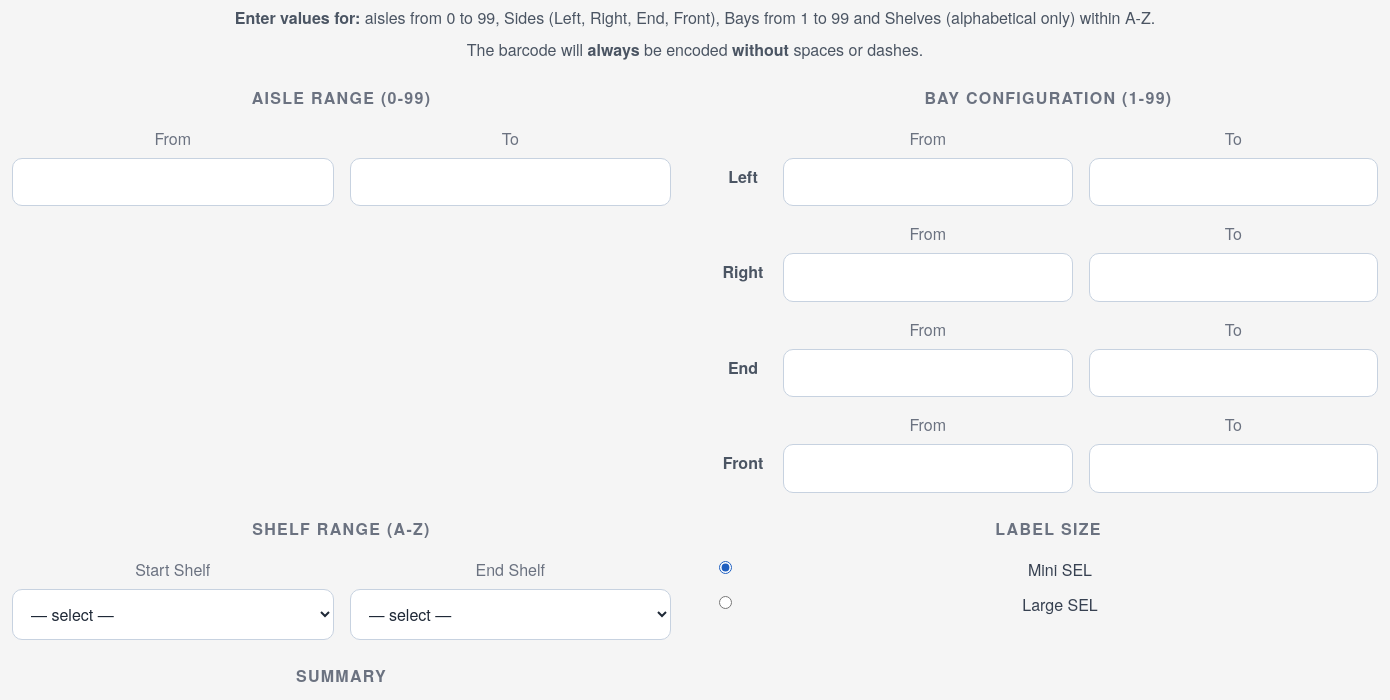
Test: AisleLabelForm › shows error when no side range is provided
This screenshot has width=1390, height=700.
Type "1" into the field labelled "From" below "Aisle Range (0-99)" at (173, 182), box [12,158,334,206]
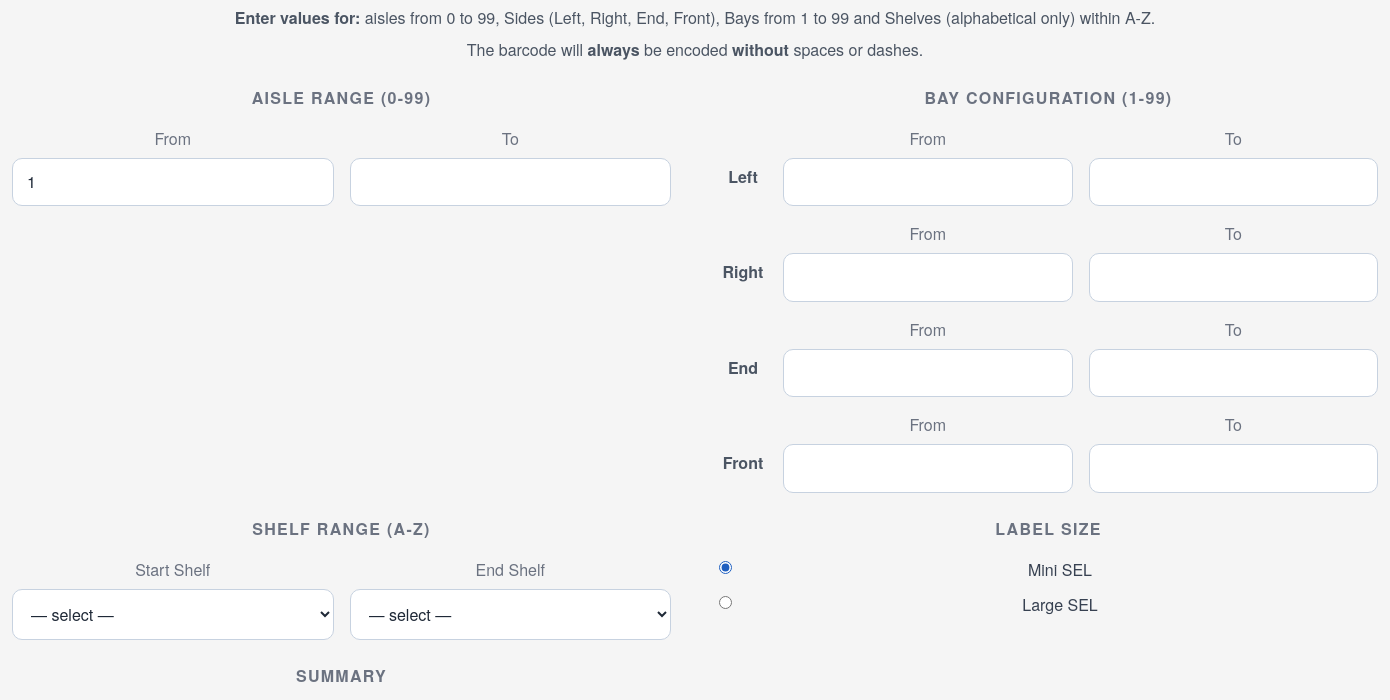
Type "2" into the field labelled "To" below "Aisle Range (0-99)" at (510, 182), box [350,158,671,206]
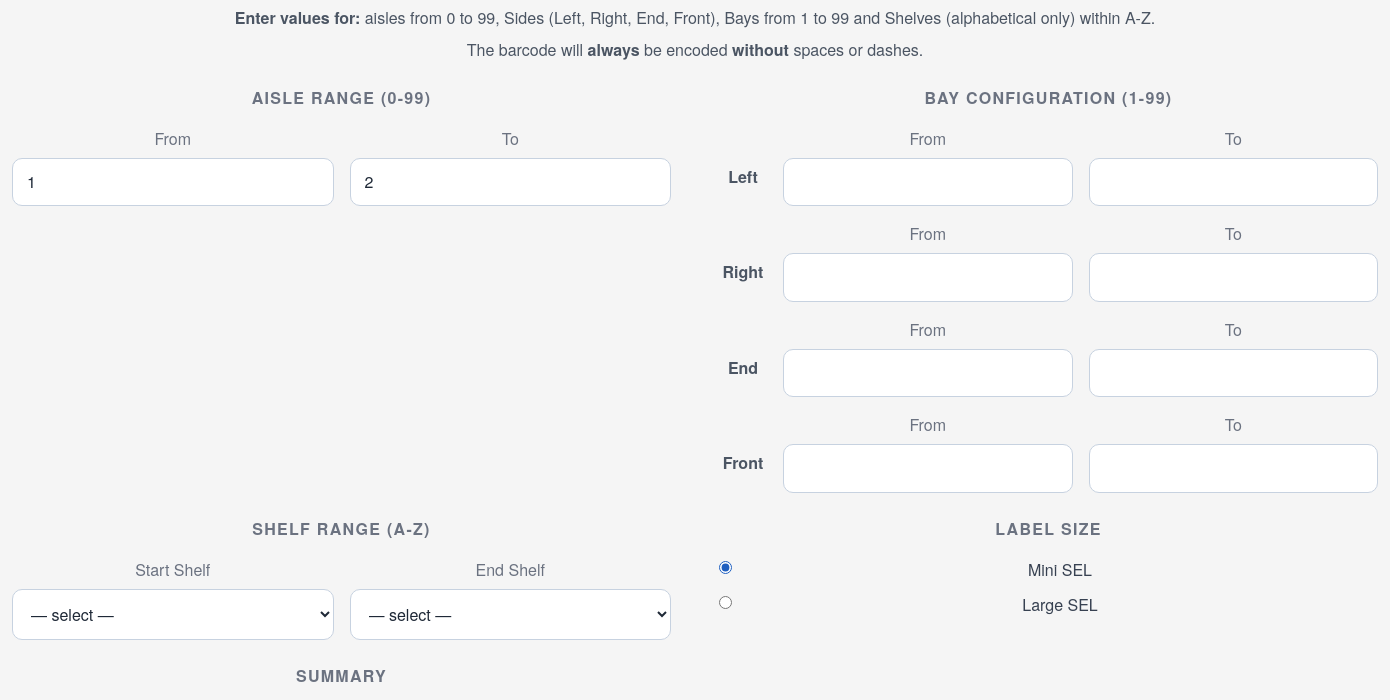
Select "E" in the dropdown labelled "End Shelf" at (510, 614), box [350,589,671,640]
(page scrolled)
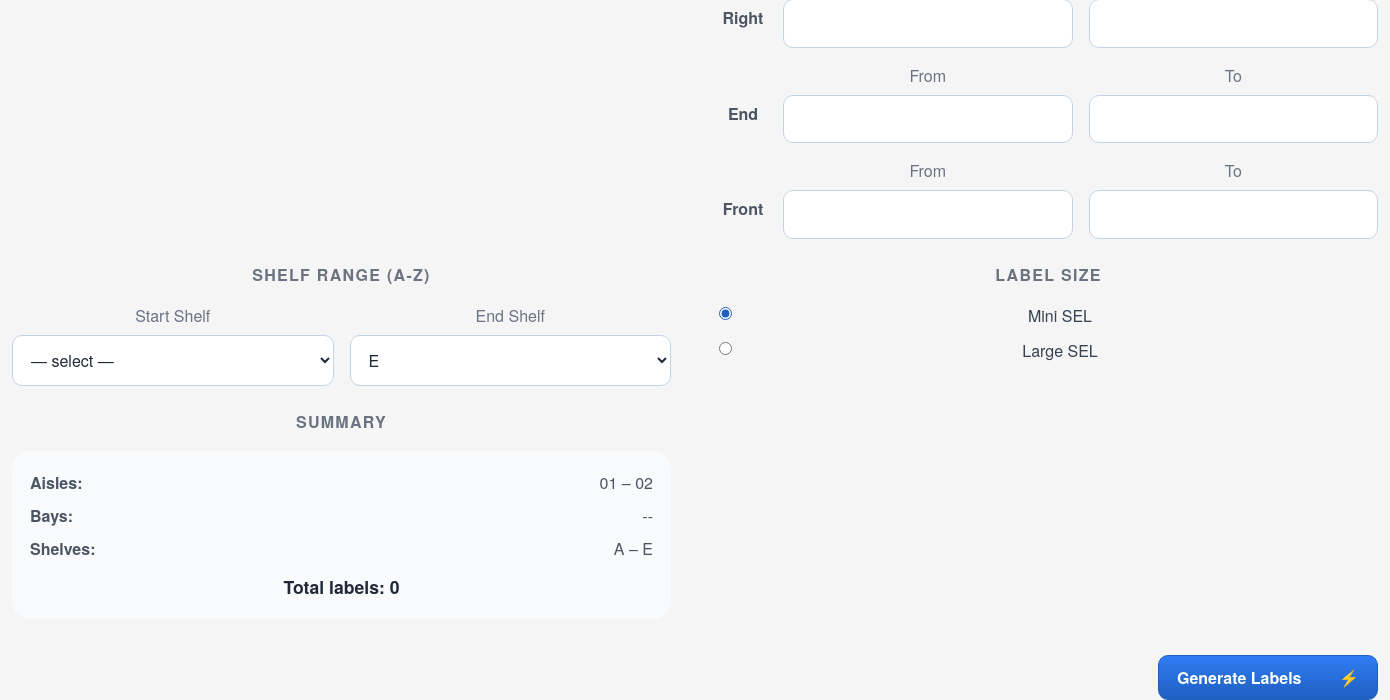
Click the button "Generate Labels ⚡" at (1268, 678), box [1158,655,1378,699]
(page scrolled)
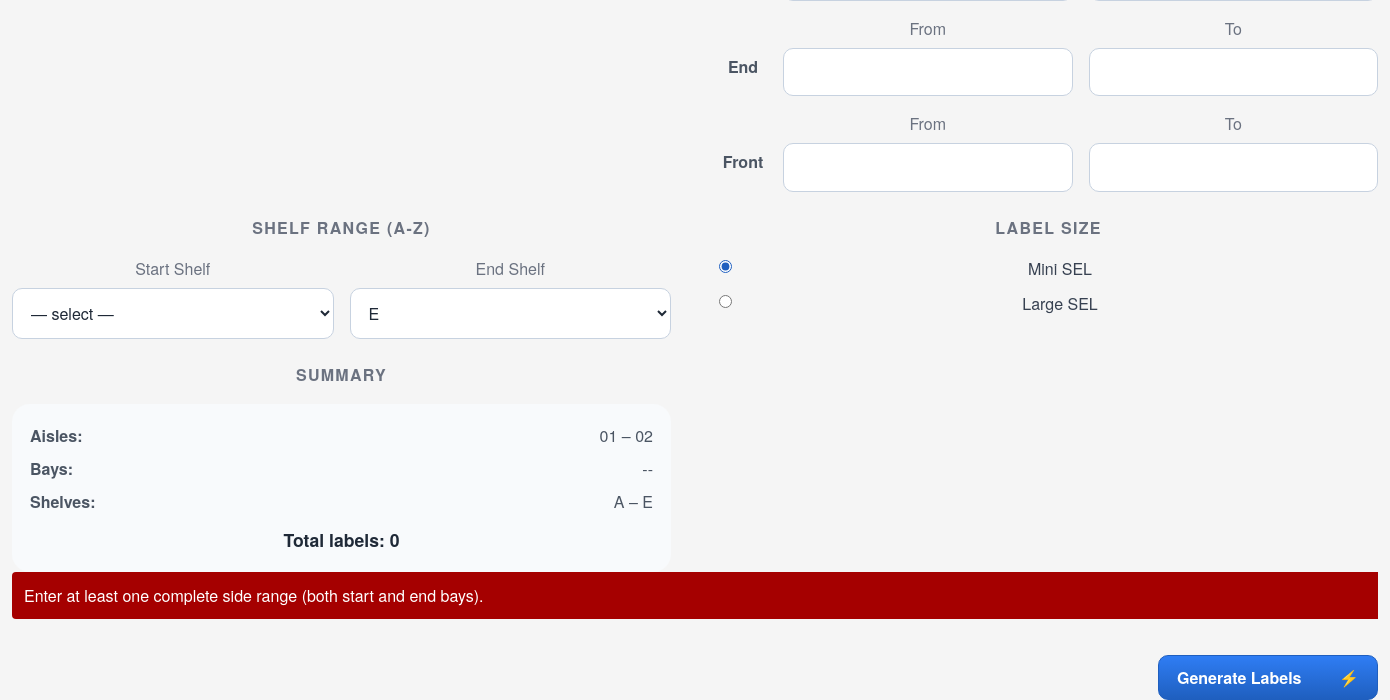
Expected: the message shows "Enter at least one complete side range", [24,584,484,607]
